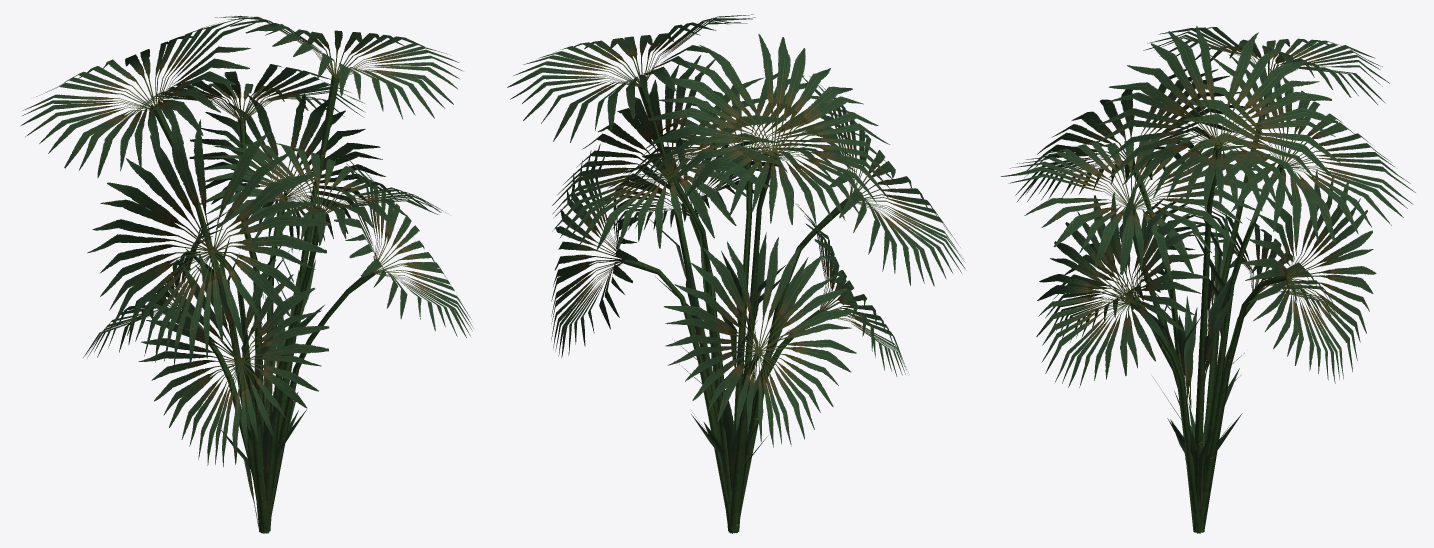
The model's file is Plant1_1_L3.fbx.
3 renders of one model, left to right at view 1: azimuth 30°, elevation 25°; view 2: azimuth 150°, elevation 25°; view 3: azimuth 270°, elevation 25°, orthographic.
Parts seen in each view (by area): view 1: polySurface16; view 2: polySurface16; view 3: polySurface16.
Part boxes in pixels (left/top/right/bottom): polySurface16: left=20, top=15, right=473, bottom=533; polySurface16: left=507, top=14, right=966, bottom=533; polySurface16: left=1001, top=26, right=1415, bottom=533.
Size of the model in its own units: 467 by 583 by 436.
